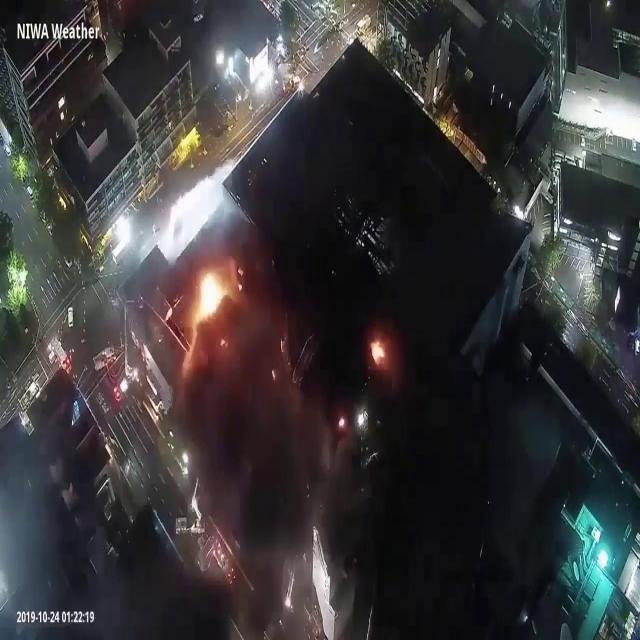Fire: (194, 274, 232, 321), (371, 337, 387, 363)
